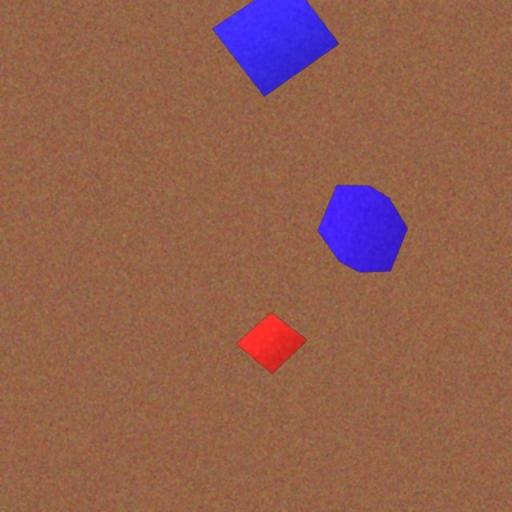BLUE_SQUARE: (212, 0, 340, 98)
RED_SQUARE: (235, 312, 308, 374)
